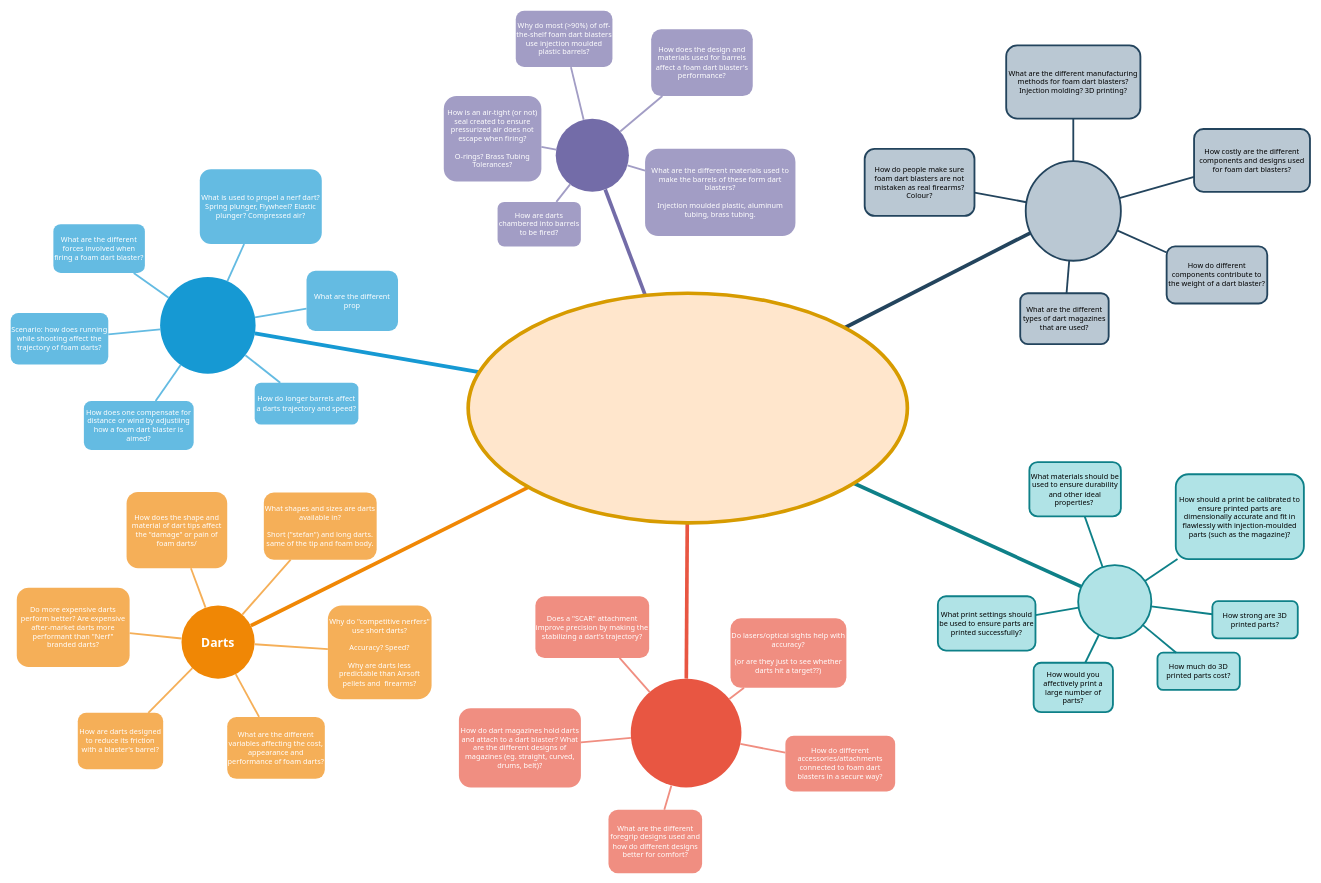
Some shapes in this 1321 by 883 pixel diagram are drawn without their labels. Here are the shapes that lost their labels. From the top down, the centre of each, then its label:
point (592, 155): Barrel Design
point (1072, 210): Blaster Design
point (207, 325): Kinematics
point (687, 407): Foam Dart Blaster Physics
point (1114, 601): 3D Printing
point (685, 732): Accessories and Attachments
